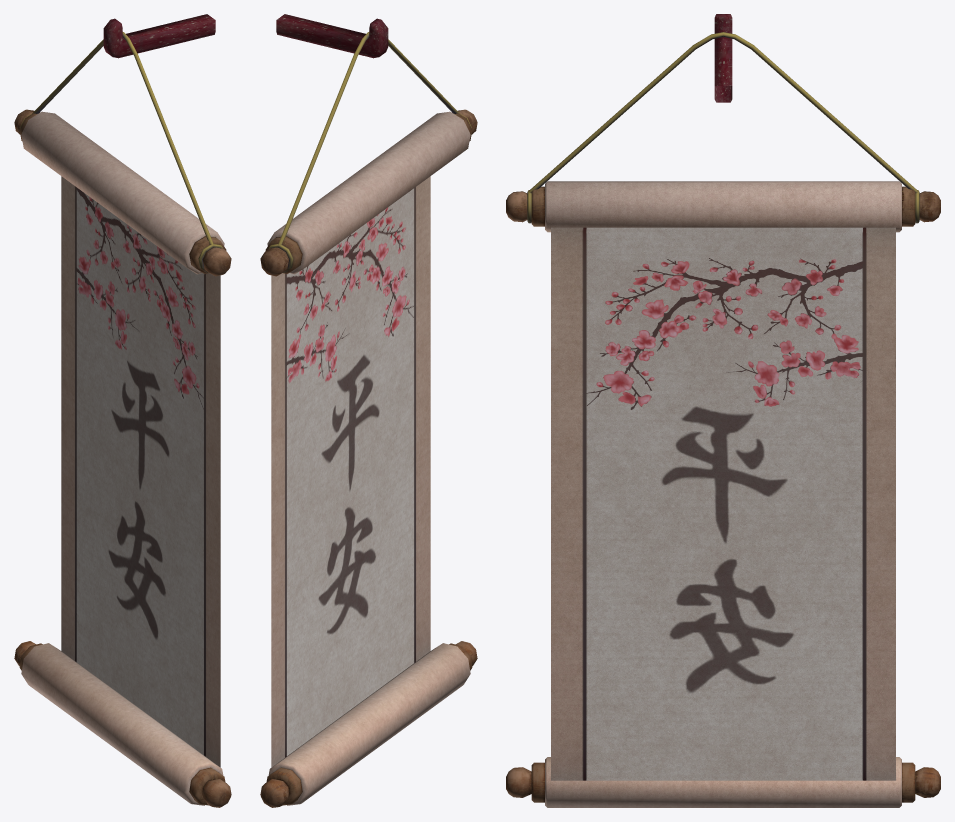
The model's file is SM_Banner_A.glb.
The picture shows the model from 3 angles, left to right: view 1: azimuth 30°, elevation 25°; view 2: azimuth 150°, elevation 25°; view 3: azimuth 270°, elevation 25°; orthographic projection. The views are drawn at different scales.
Parts seen in each view (by area): view 1: SM_Banner_A_LOD0; view 2: SM_Banner_A_LOD0; view 3: SM_Banner_A_LOD0.
Boxes of the visible parts, left/top/right/bottom form: SM_Banner_A_LOD0: left=14, top=14, right=231, bottom=807; SM_Banner_A_LOD0: left=260, top=14, right=477, bottom=807; SM_Banner_A_LOD0: left=506, top=14, right=940, bottom=807.
Bounding box in the file's own units: 0.1898 × 1.21 × 0.6061.
1 material, 1 textured.
